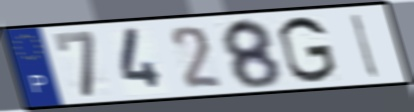2: (171, 24, 225, 91)
4: (120, 25, 169, 96)
7: (50, 28, 100, 100)
8: (218, 16, 286, 90)
G: (275, 15, 339, 85)
I: (349, 11, 381, 80)
